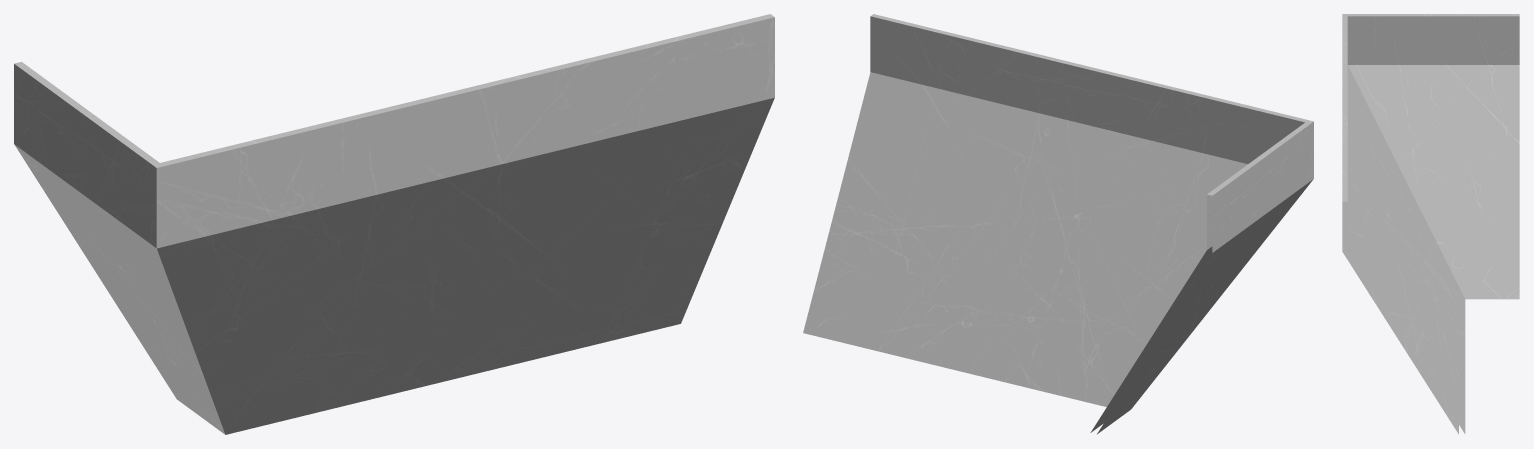
Rendered from TightenerStation_Cube10.glb.
3 renders of one model, left to right at view 1: azimuth 30°, elevation 25°; view 2: azimuth 150°, elevation 25°; view 3: azimuth 270°, elevation 25°, orthographic. The views are drawn at different scales.
Visible parts, largest first — view 1: color-2.010; view 2: color-2.010; view 3: color-2.010.
Part boxes in pixels (bbox=[...]): color-2.010: bbox=[14, 14, 774, 434]; color-2.010: bbox=[803, 14, 1313, 434]; color-2.010: bbox=[1342, 14, 1519, 434].
Size of the model in its own units: 0.2413 by 0.14 by 0.0964.
1 material, 1 textured.
